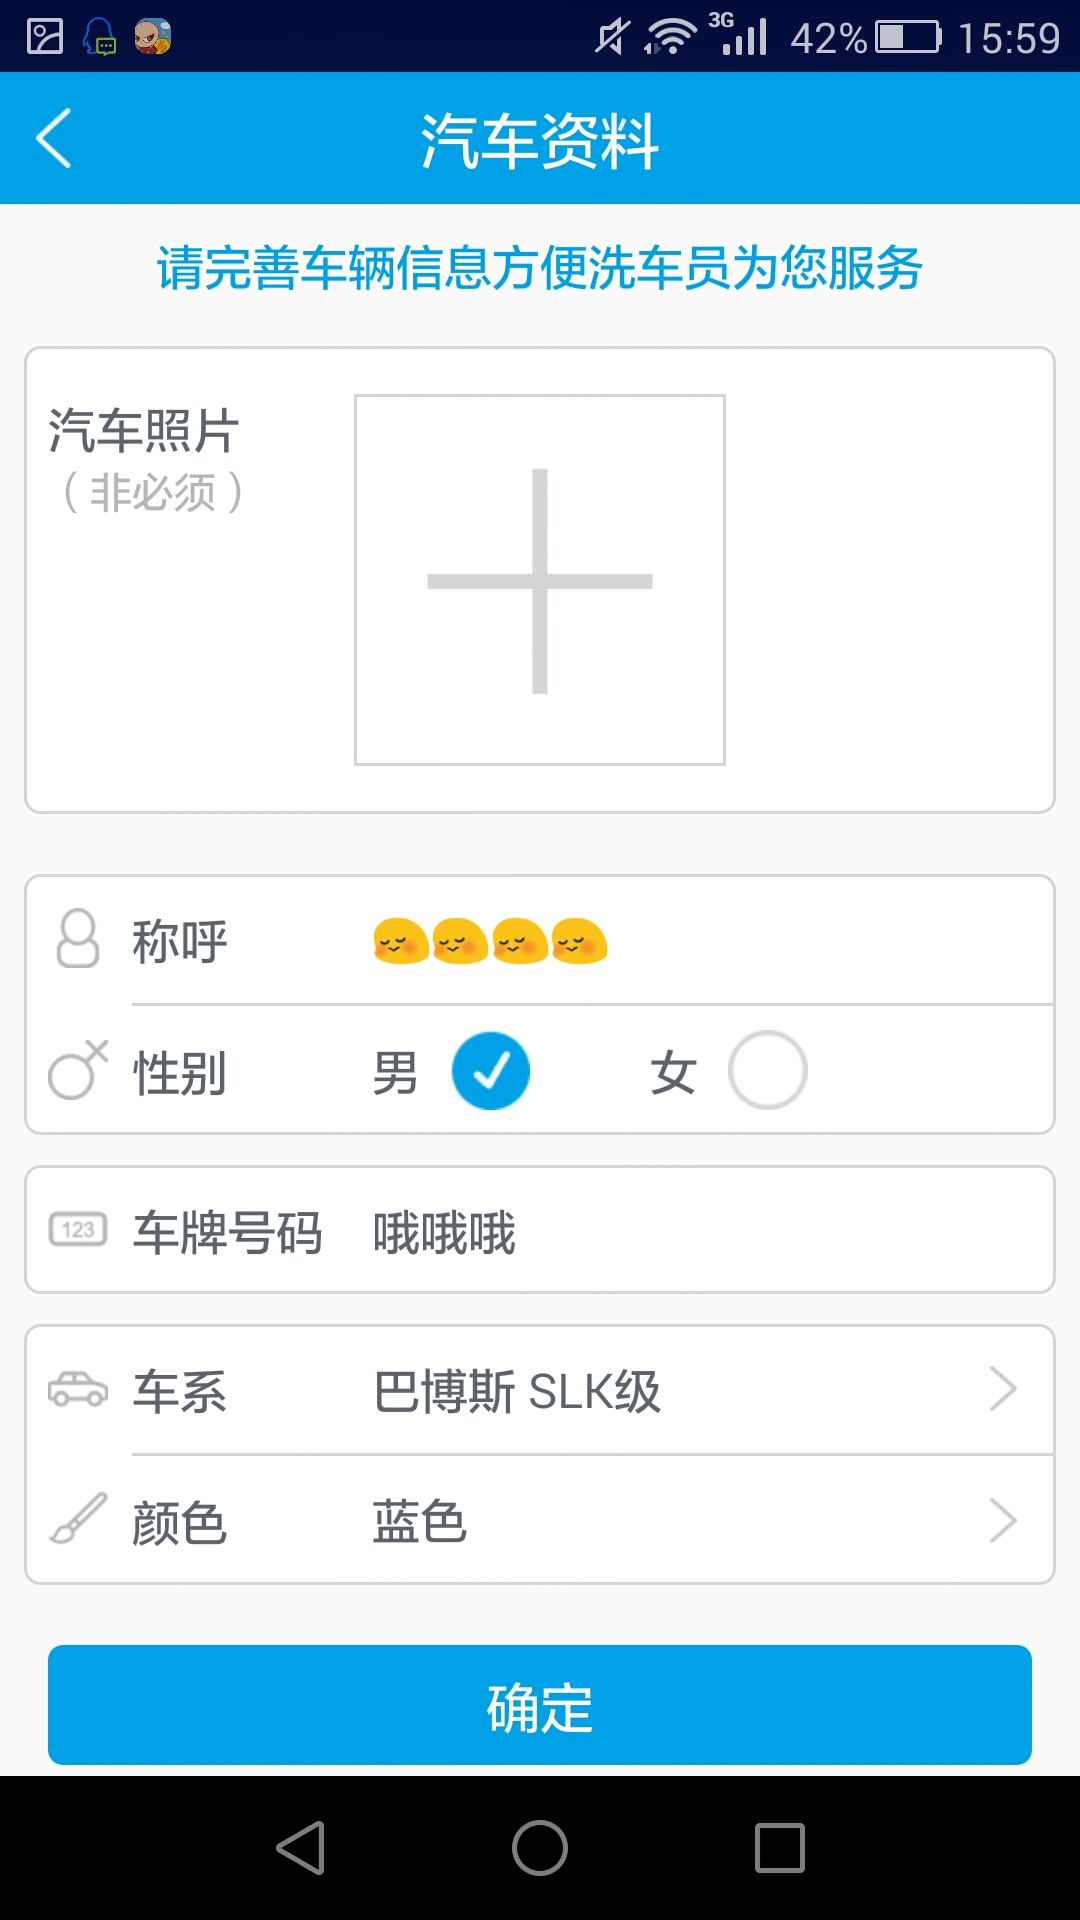button: (12, 1319, 1067, 1468), (12, 1441, 1080, 1584)
textview: (18, 857, 1063, 1153), (18, 1163, 1058, 1304)
